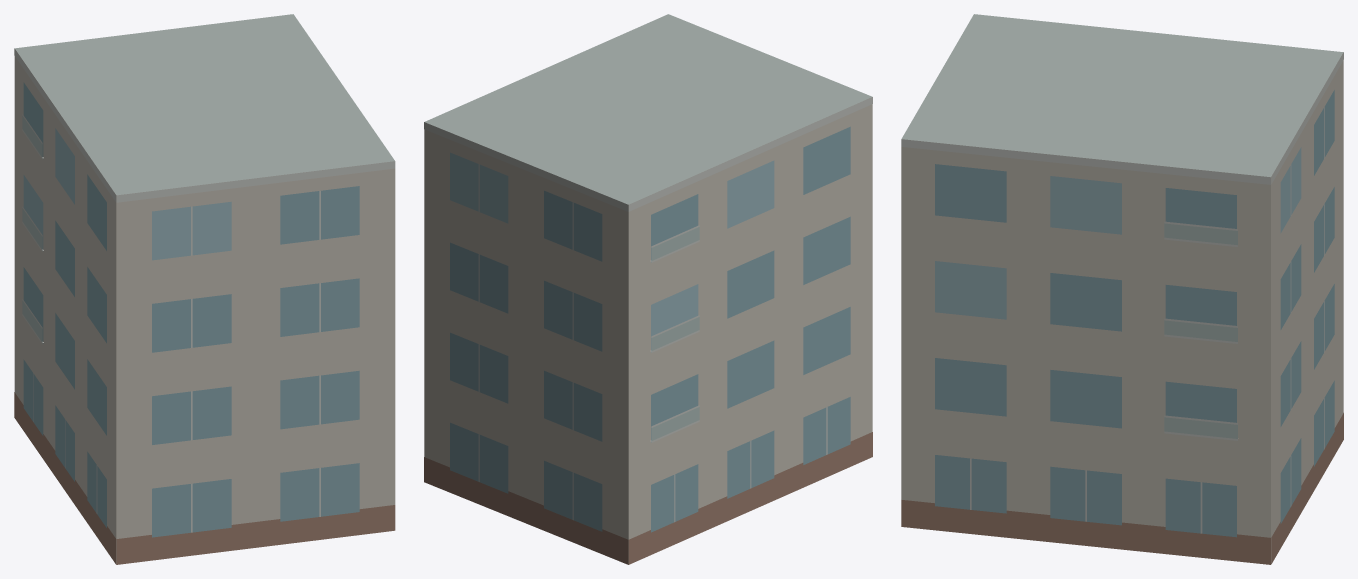
The model's file is survey-upis-32913873.glb.
3 renders of one model, left to right at view 1: azimuth 30°, elevation 25°; view 2: azimuth 150°, elevation 25°; view 3: azimuth 270°, elevation 25°, orthographic. The views are drawn at different scales.
Parts seen in each view (by area): view 1: survey-upis-32913873.tmp; view 2: survey-upis-32913873.tmp; view 3: survey-upis-32913873.tmp.
Boxes of the visible parts, box(x1,y1,x2,y2) form: survey-upis-32913873.tmp: box(14, 14, 395, 564); survey-upis-32913873.tmp: box(424, 14, 872, 564); survey-upis-32913873.tmp: box(901, 14, 1343, 564).
Size of the model in its own units: 11.02 by 12.2 by 12.63.
